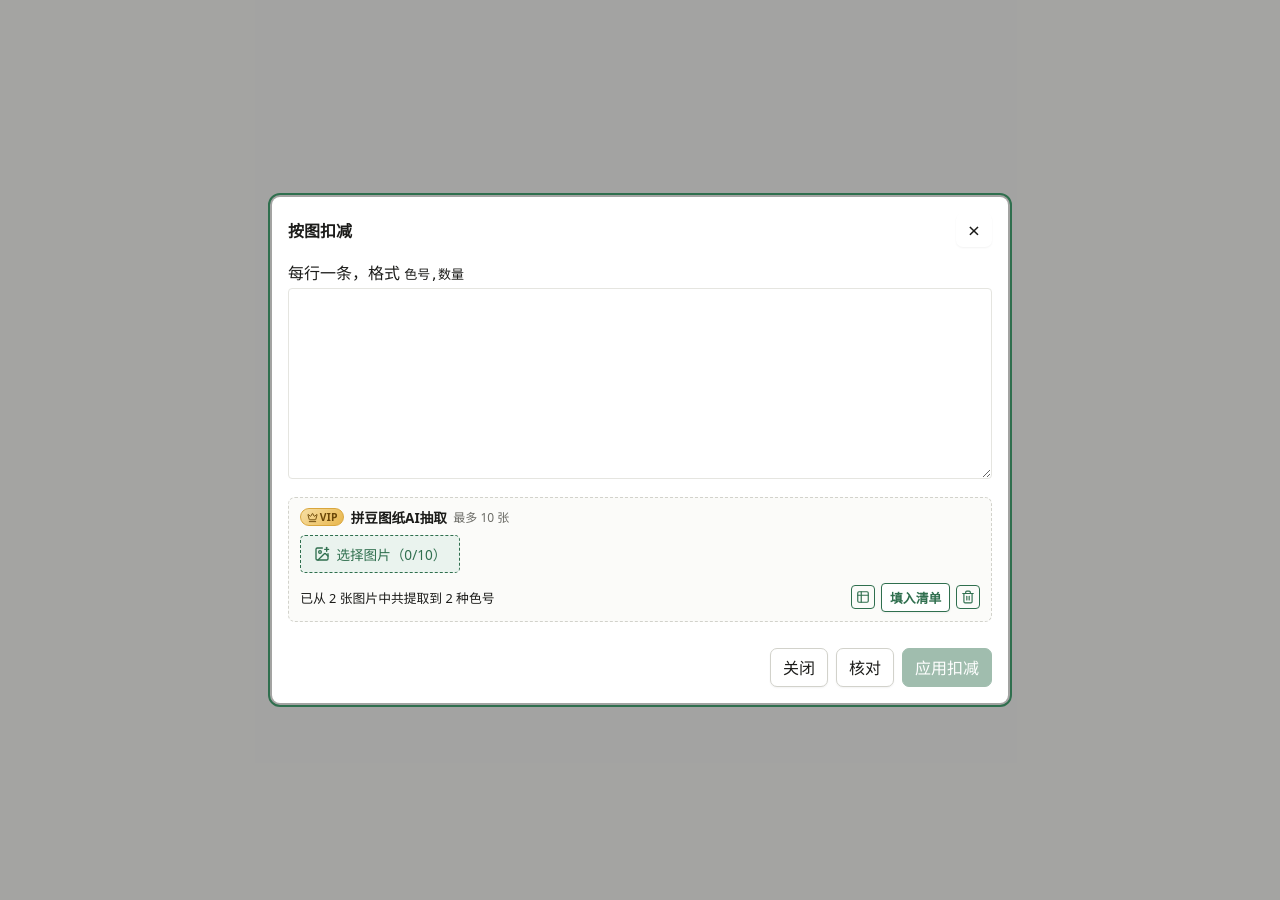
每条记录的操作按钮 › the detail button opens the per-image breakdown
Click the button named "查看各图明细" at point(863, 597), box [851,585,875,609]
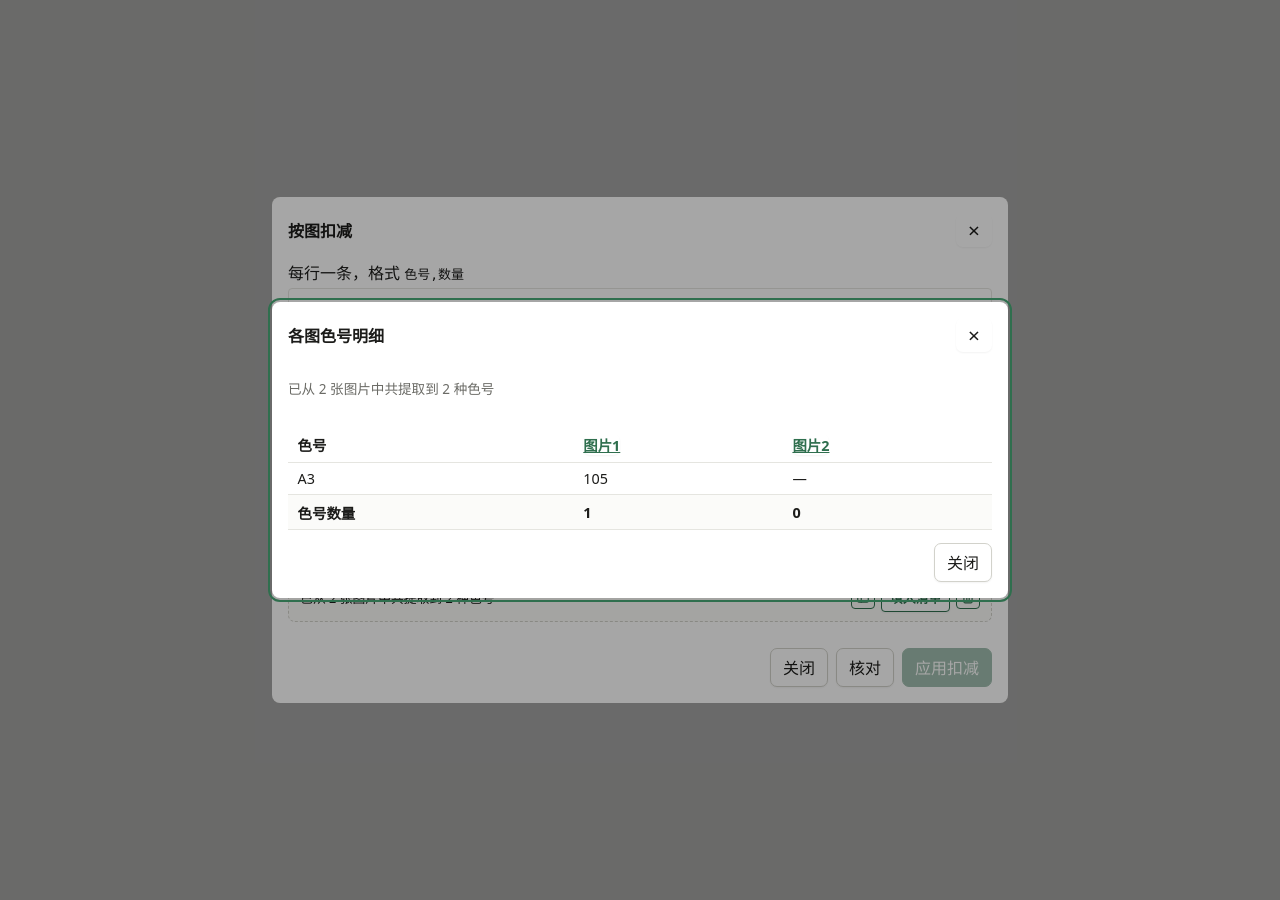
Result: the column headings read "色号", "图片1", "图片2", in this order at [288,428,574,462]; [574,428,783,462]; [783,428,992,462]
Result: the text "A3" is shown at [288,462,574,495]
